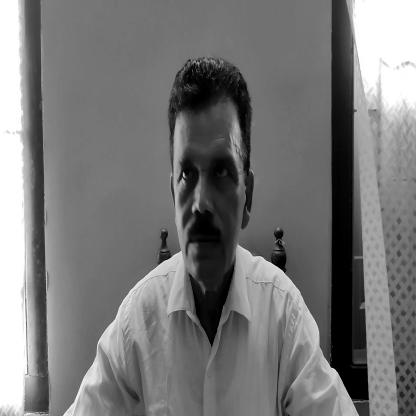Normal: (171, 74, 253, 285)
